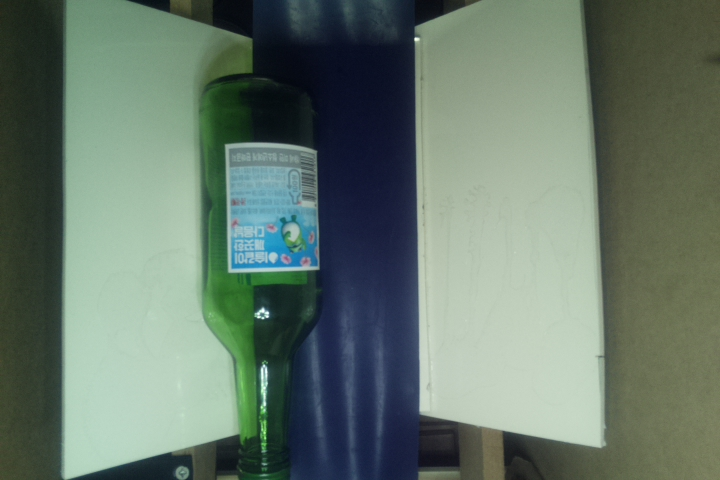soju: (197, 73, 325, 480)
